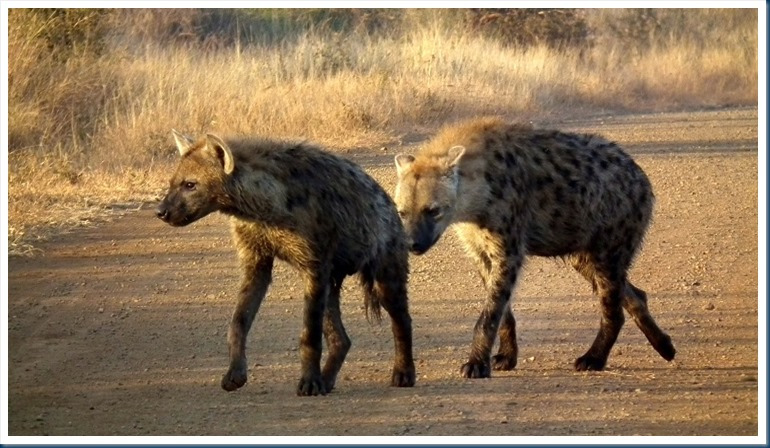hyena: (387, 120, 680, 377), (147, 123, 416, 401)
